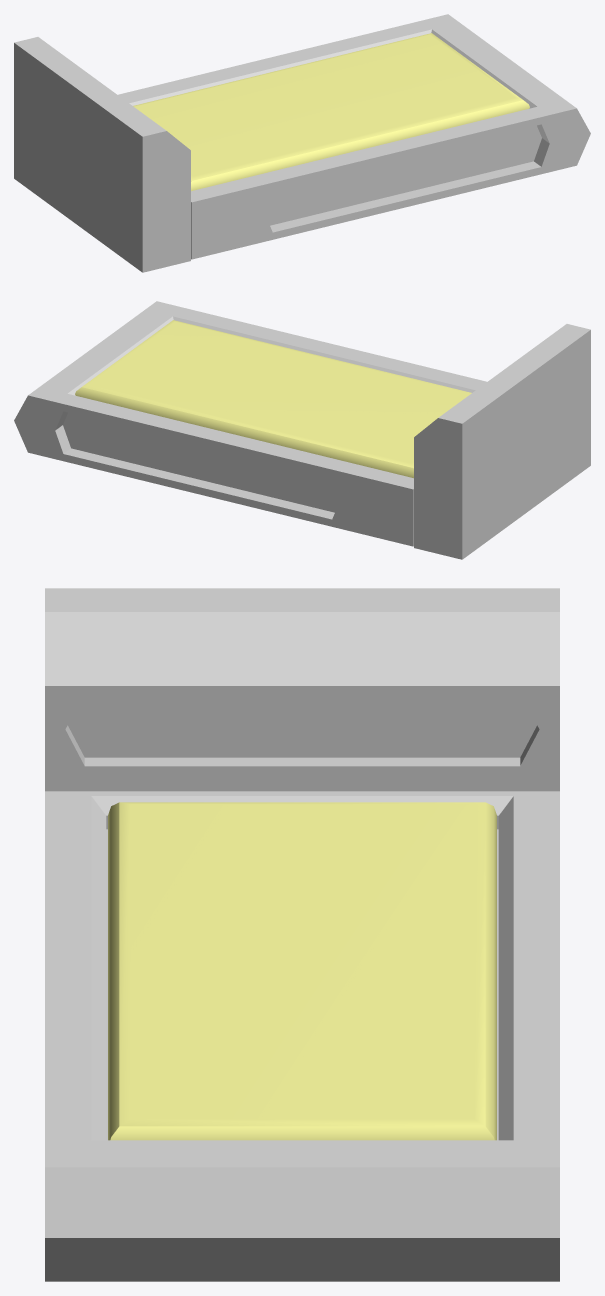
Rendered from Bed.fbx.
3 views of the same model, one above another, from view 1: azimuth 30°, elevation 25°; view 2: azimuth 150°, elevation 25°; view 3: azimuth 270°, elevation 25° (orthographic). The views are drawn at different scales.
Visible parts, largest first — view 1: polySurface567, polySurface566, polySurface568; view 2: polySurface567, polySurface566, polySurface568; view 3: polySurface566, polySurface567, polySurface568.
Part boxes in pixels (x1,y1,x2,y2): polySurface567: (118,14,590,259); polySurface566: (133,33,529,191); polySurface568: (14,37,190,272); polySurface567: (14,301,486,546); polySurface566: (75,320,471,478); polySurface568: (414,324,590,559); polySurface566: (108,802,496,1140); polySurface567: (45,791,559,1281); polySurface568: (45,588,559,791).
Size of the model in its own units: 3.61 by 1.05 by 1.79.
